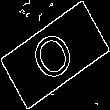O_SE: (27, 22, 83, 88)
